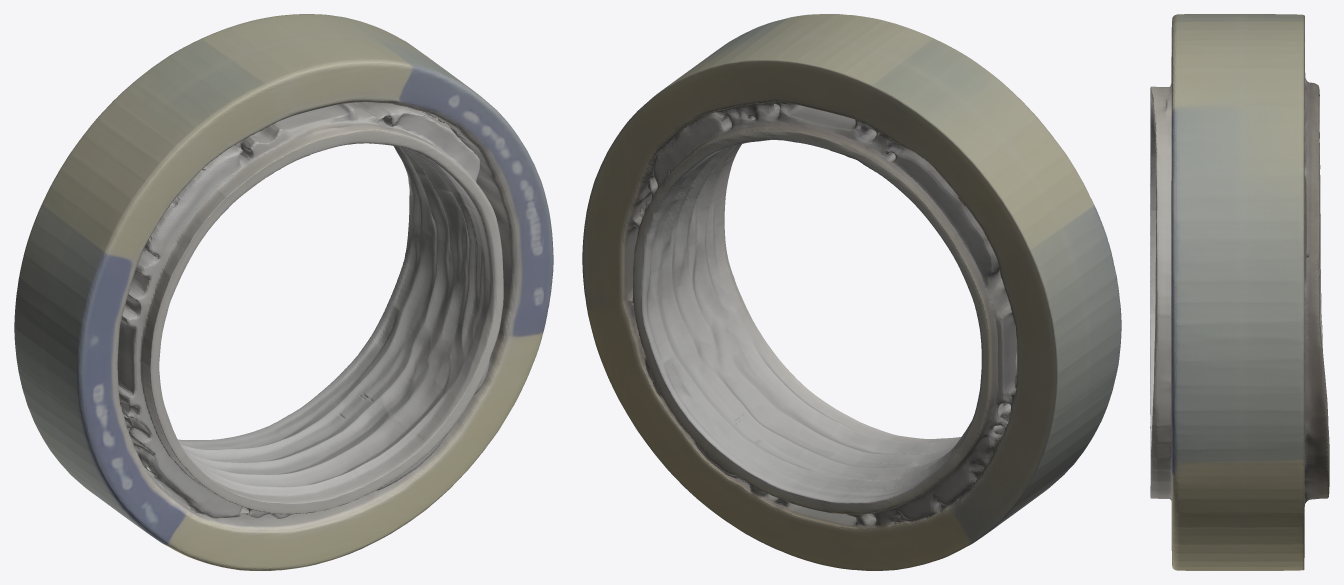
3 renders of one model, left to right at view 1: azimuth 30°, elevation 25°; view 2: azimuth 150°, elevation 25°; view 3: azimuth 270°, elevation 25°, orthographic.
Parts seen in each view (by area): view 1: mesh.obj; view 2: mesh.obj; view 3: mesh.obj.
Boxes of the visible parts, x1=… form: mesh.obj: x1=14, y1=14, x2=553, y2=570; mesh.obj: x1=582, y1=14, x2=1121, y2=570; mesh.obj: x1=1150, y1=14, x2=1329, y2=570.
Bounding box in the file's own units: 0.1132 × 0.1132 × 0.0365.
